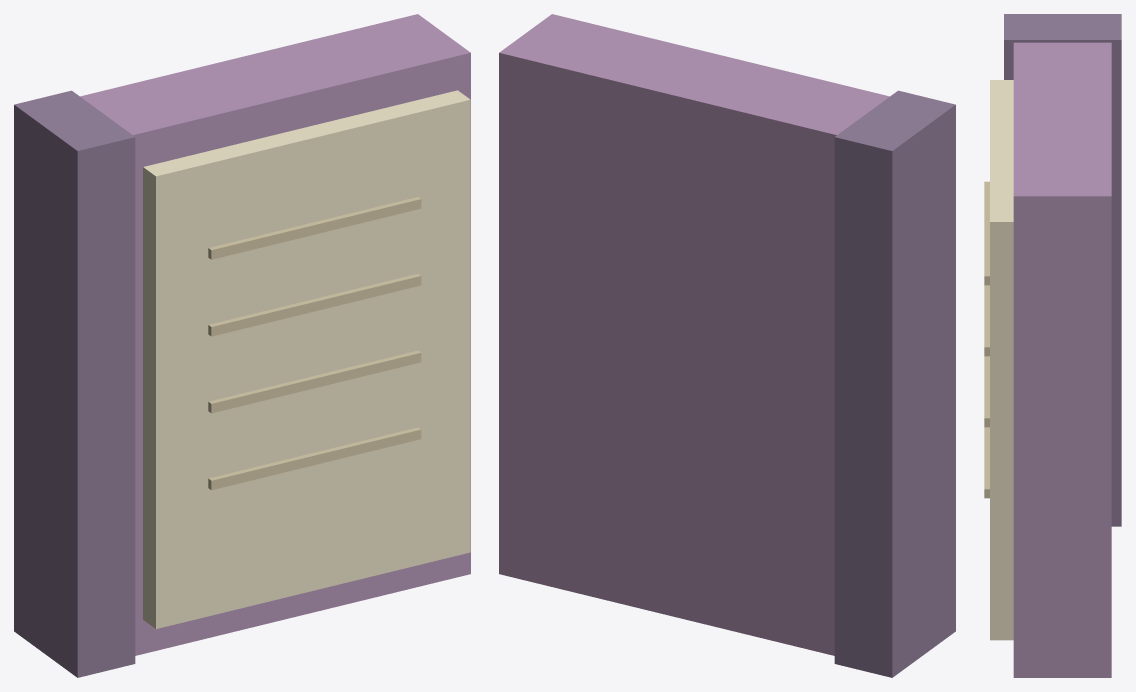
File: project_book.glb
The picture shows the model from 3 angles, left to right: view 1: azimuth 30°, elevation 25°; view 2: azimuth 150°, elevation 25°; view 3: azimuth 270°, elevation 25°; orthographic projection. The views are drawn at different scales.
Parts seen in each view (by area): view 1: pages, spine, book_cover, page_lines (×4); view 2: book_cover, spine; view 3: book_cover, pages, spine, page_lines (×4).
Part boxes in pixels (x1=…): pages: x1=143, y1=90, x2=470, y2=628; spine: x1=14, y1=90, x2=135, y2=677; book_cover: x1=80, y1=14, x2=470, y2=655; page_lines (×4): x1=208, y1=197, x2=421, y2=490; book_cover: x1=499, y1=14, x2=889, y2=655; spine: x1=834, y1=90, x2=955, y2=677; book_cover: x1=1013, y1=42, x2=1111, y2=677; pages: x1=990, y1=80, x2=1013, y2=640; spine: x1=1004, y1=14, x2=1121, y2=526; page_lines (×4): x1=984, y1=181, x2=989, y2=498.
Bounding box in the file's own units: 1.52 × 1.92 × 0.49.
